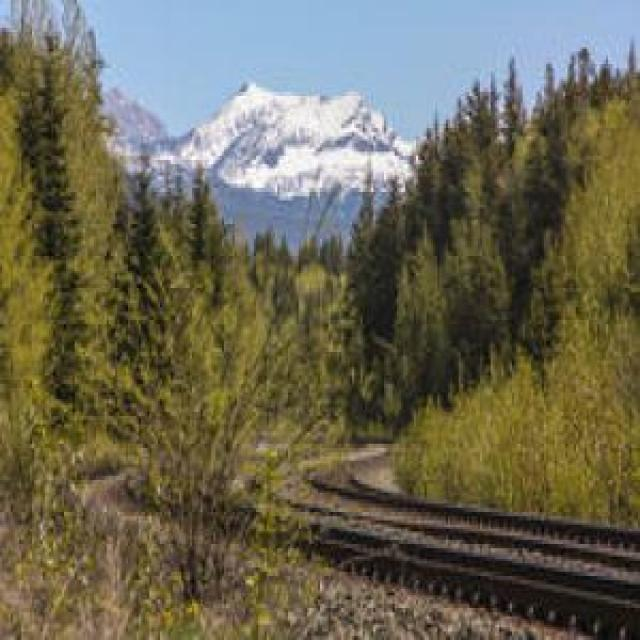rail: (113, 438, 640, 637)
